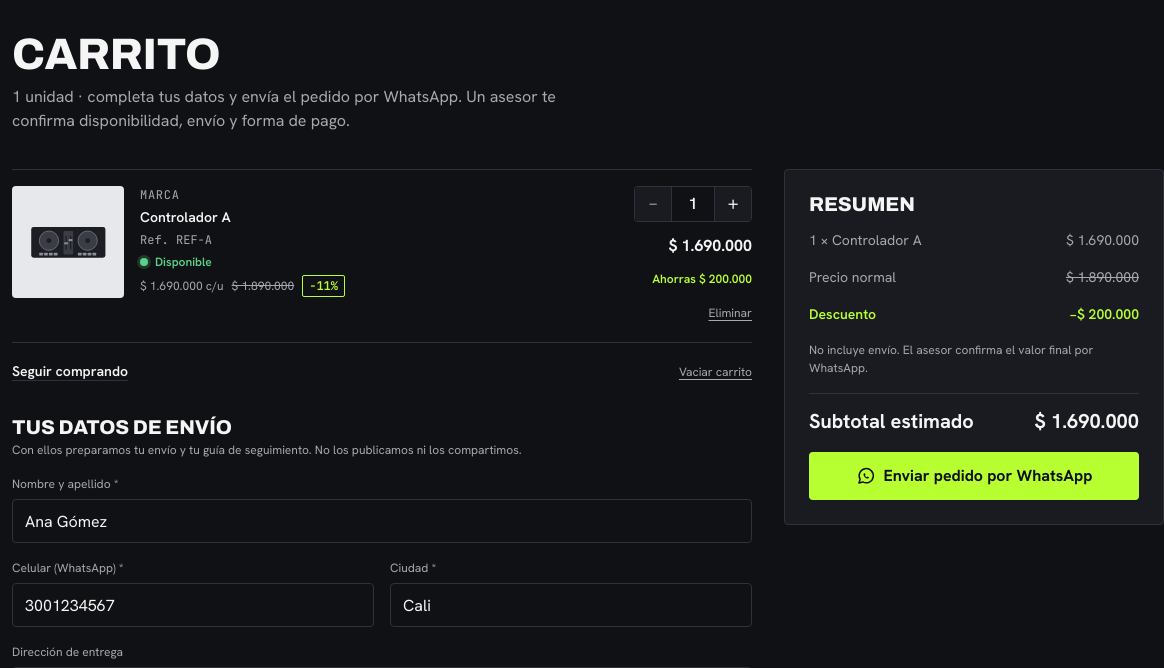
Test case: Pedido desde el carrito › si el servidor rechaza los datos, cierra la pestaña y muestra el error
Expected: the field labelled "Nombre y apellido *" holds "Ana Gómez", [12, 499, 752, 543]
Click the button with test id "send-whatsapp" at (974, 476), box [809, 452, 1139, 500]
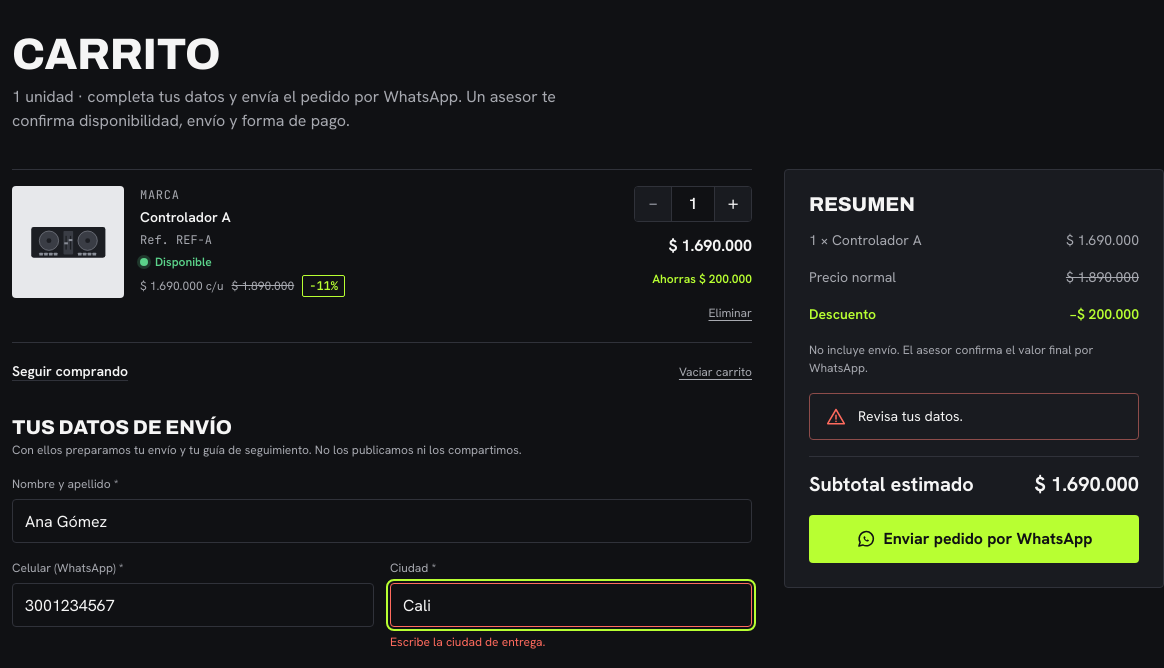
Result: the message reads "Revisa tus datos." at [858, 407, 963, 425]
Result: the text "Escribe la ciudad de entrega." is shown at [390, 634, 545, 650]
